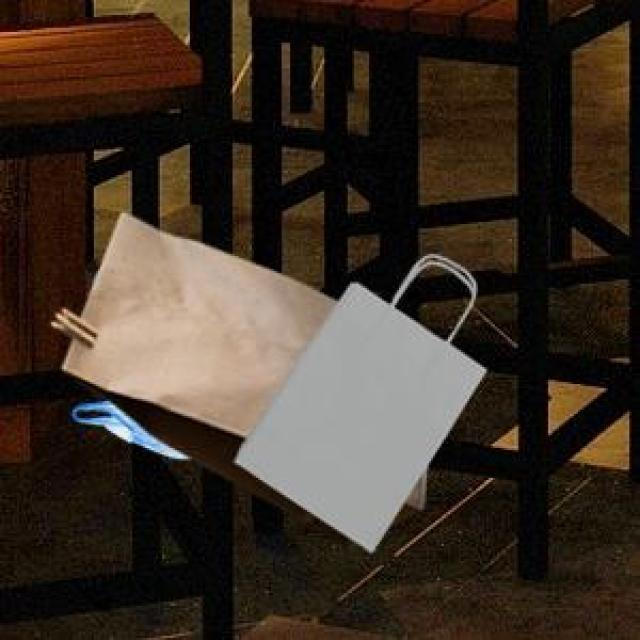paper: (49, 209, 419, 544), (230, 256, 482, 548)
